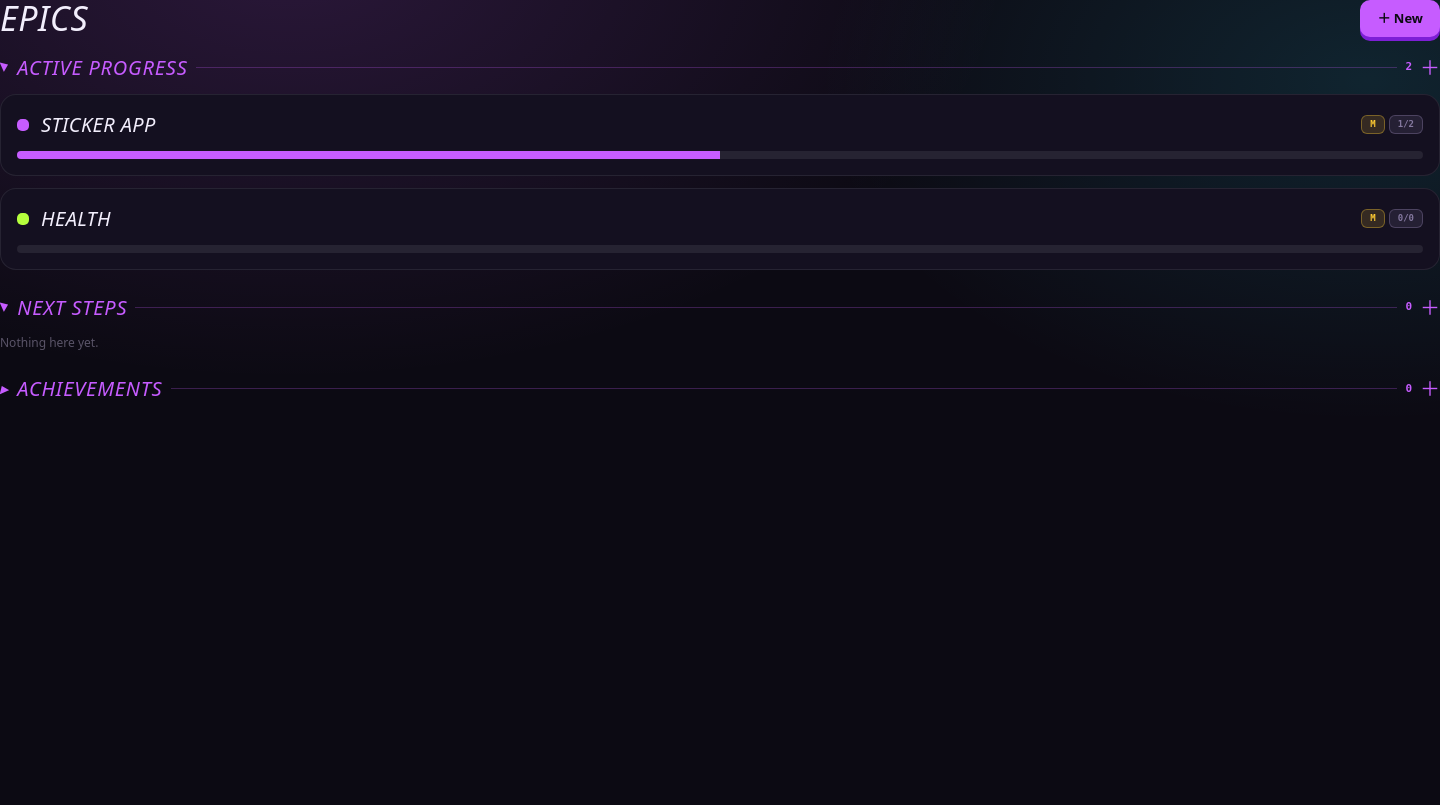
Test: finishing a task from inside the epic › reads the task before offering to change it
Click the button "Sticker App M 1/2". click: (98, 124)
box: [17,111,1423,139]
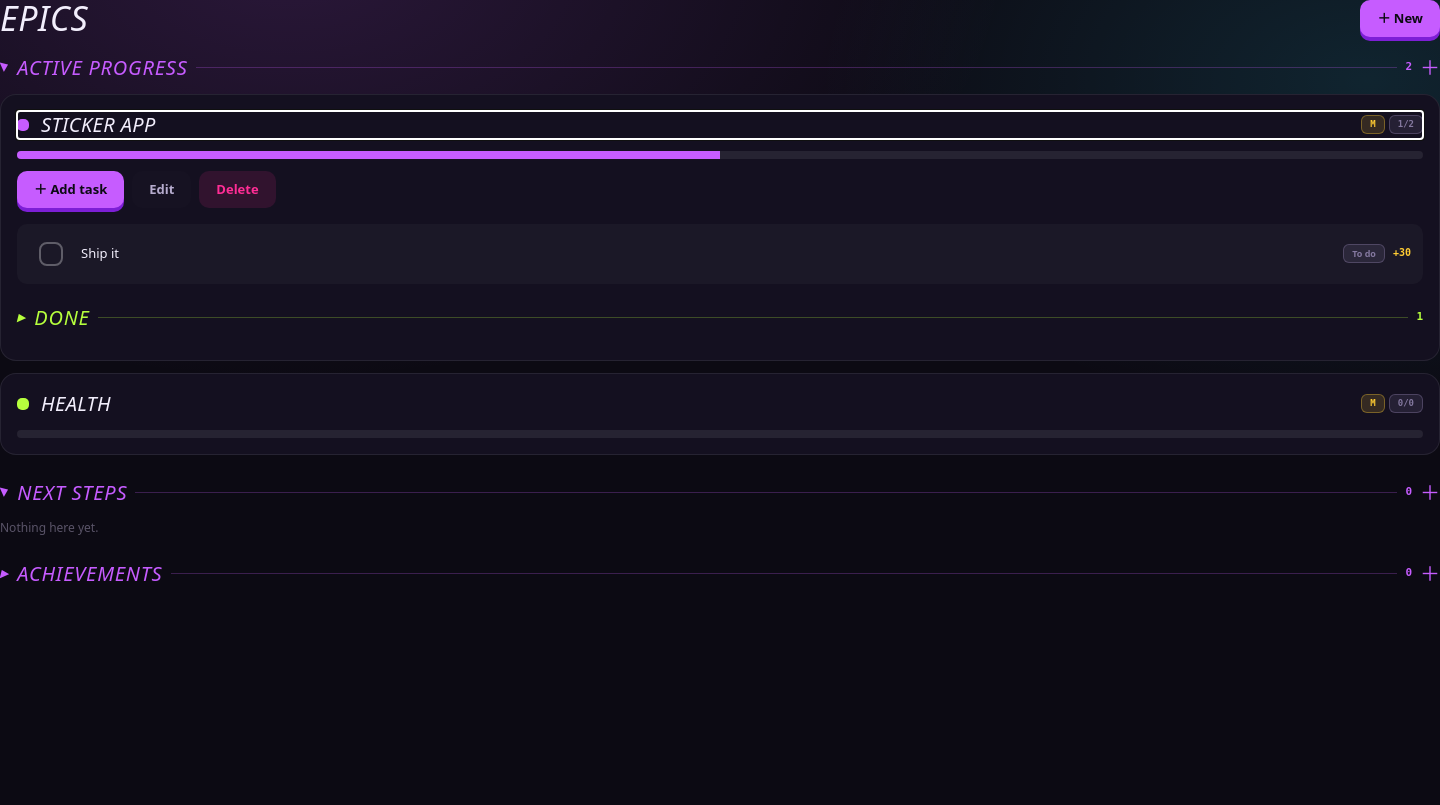
Click the button "Ship it". click: (100, 253)
box: [81,244,1335,263]
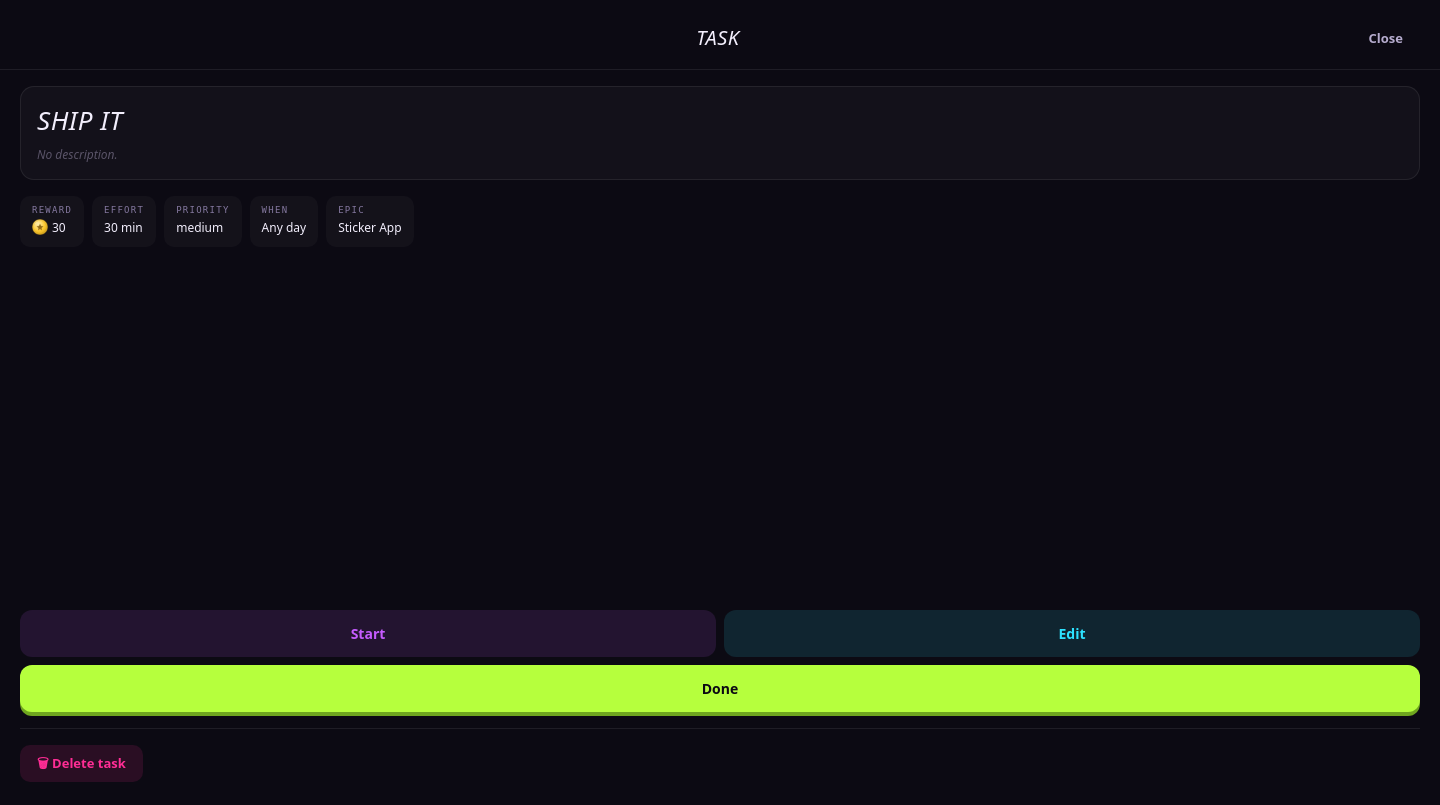
Result: the heading "Ship it" is shown at [37,102,123,138]
Click the button "Edit". click: (1072, 634)
box: [724,610,1420,657]
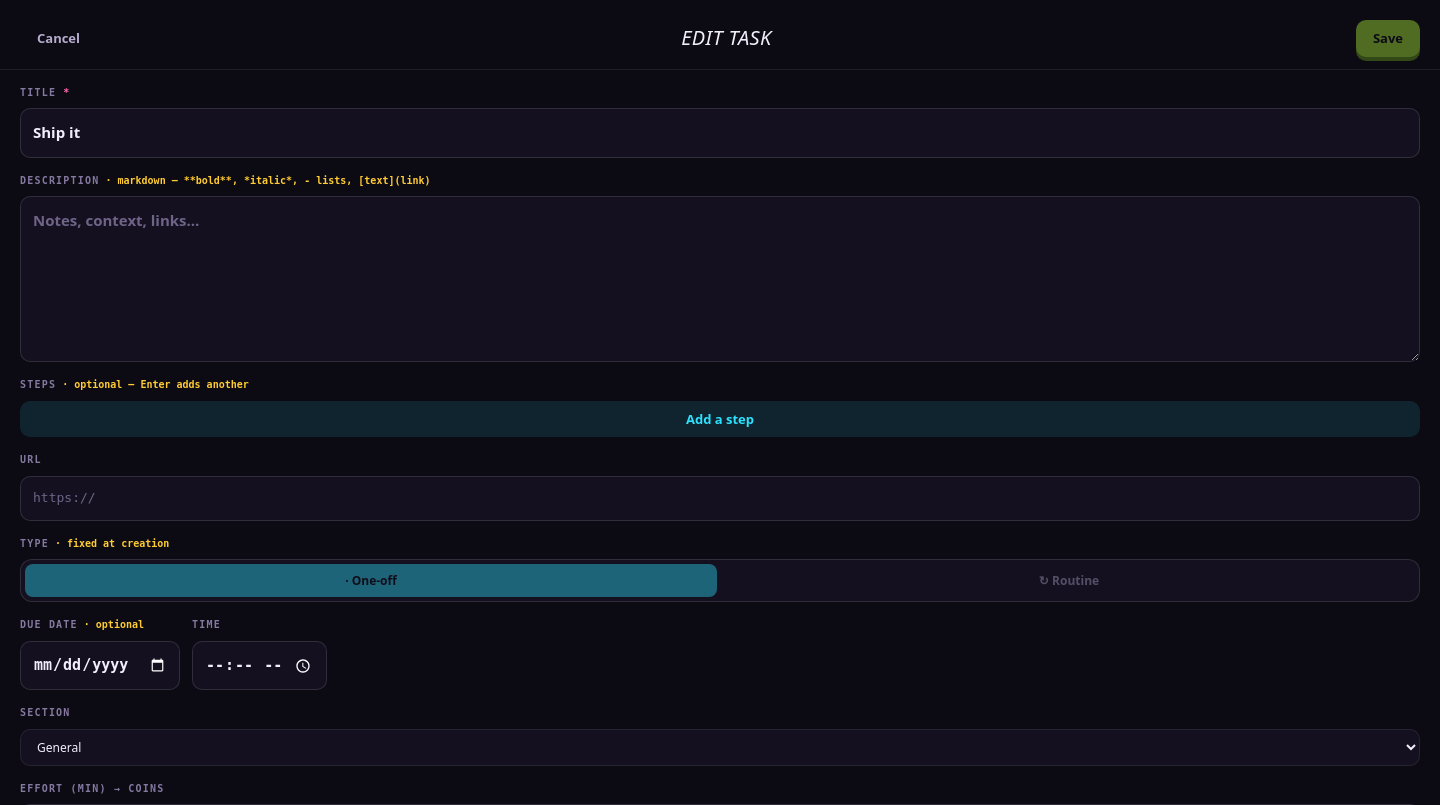
Result: the field showing "Ship it" below "Title" is shown at [20,108,1420,158]
